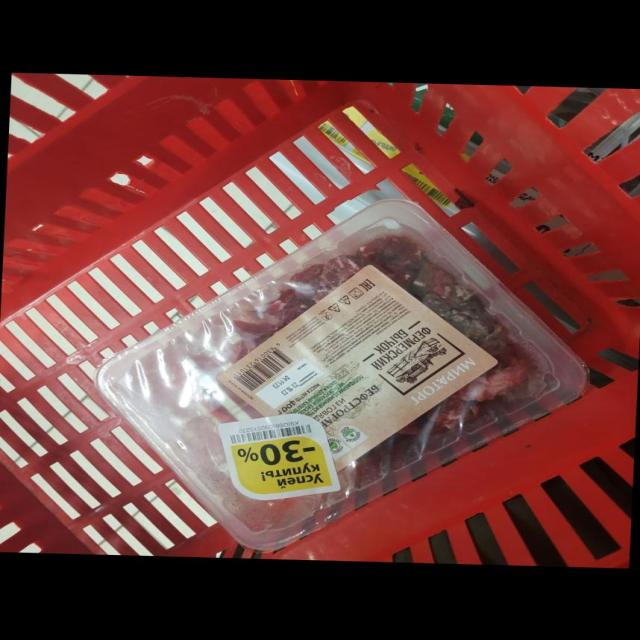Meat: (94, 199, 586, 550)
